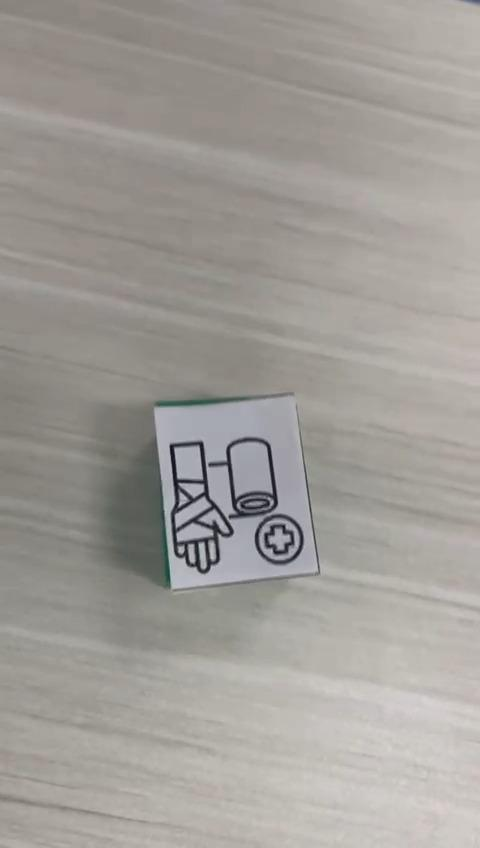Bandages: (152, 392, 321, 592)
